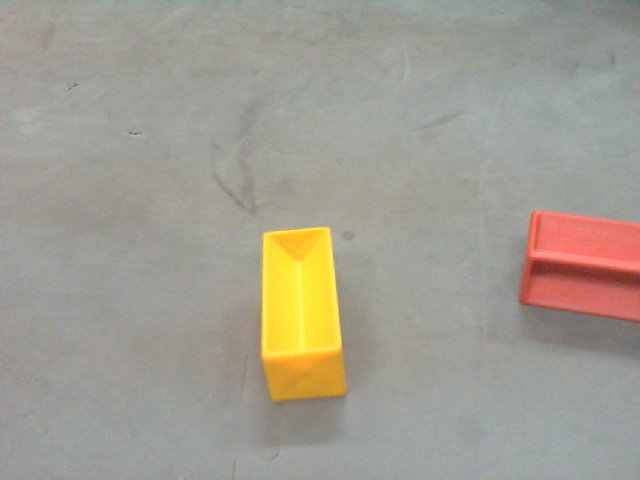RedSample: (520, 209, 640, 320)
YellowSample: (256, 224, 350, 405)
